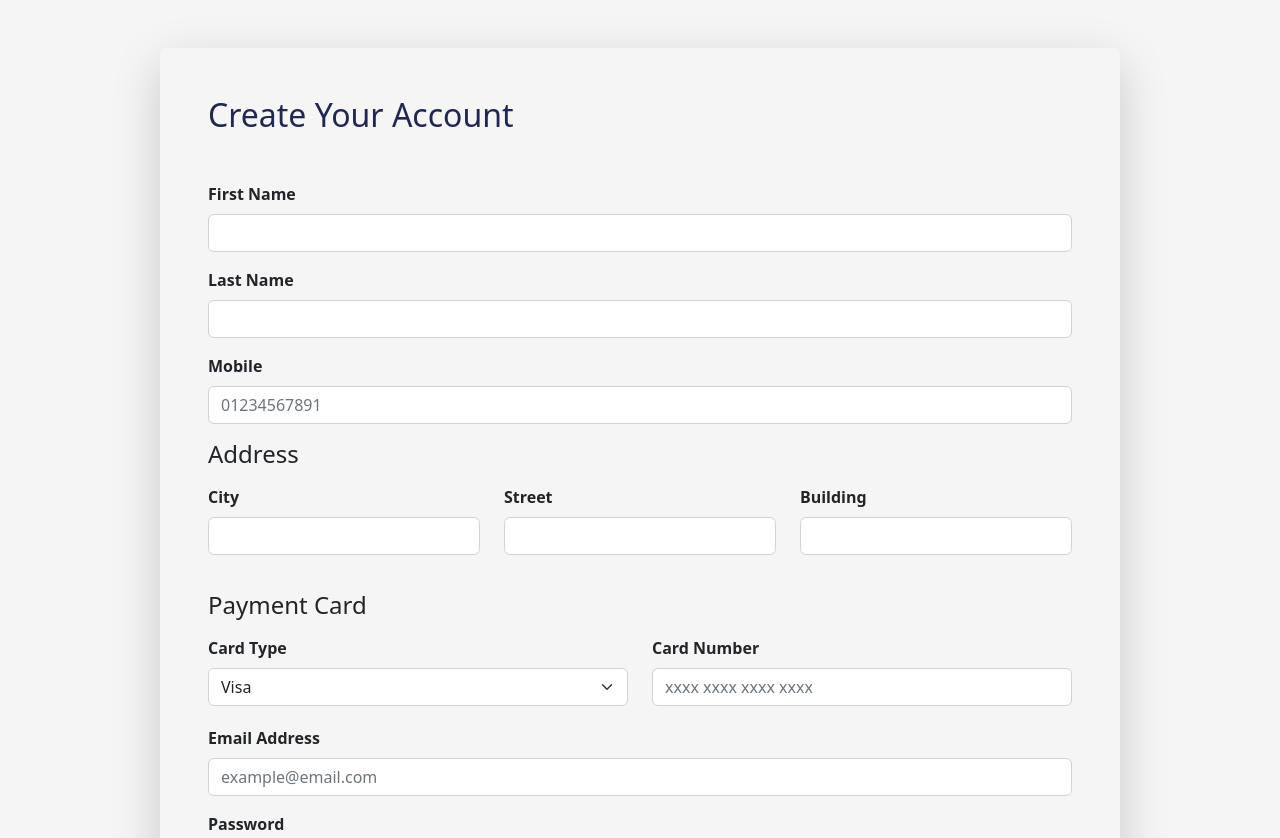
should be a valid Last name
The width and height of the screenshot is (1280, 838).
Type "ma ha" into the field labelled "Last Name" at [640, 319], box [208,300,1072,338]
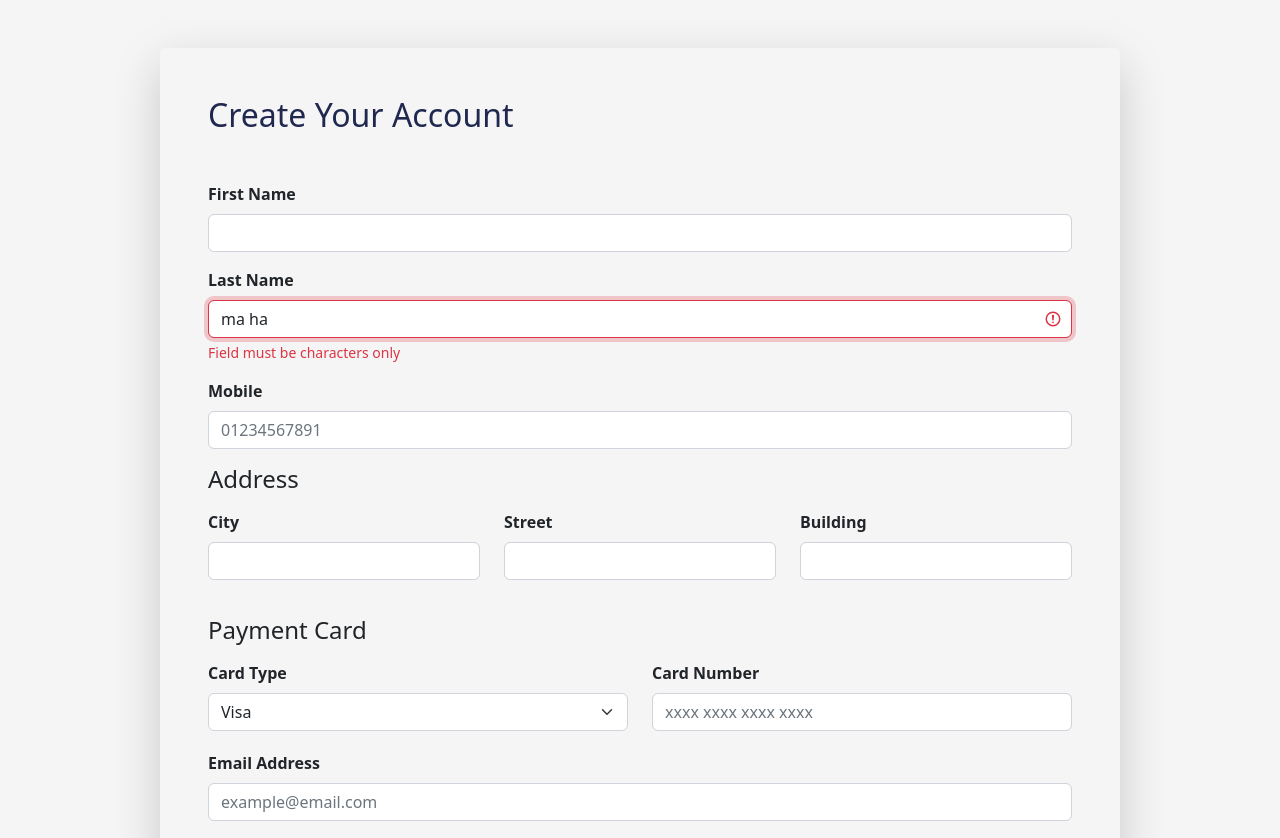
Result: the text "Field must be characters only" is shown at [208,343,400,362]
